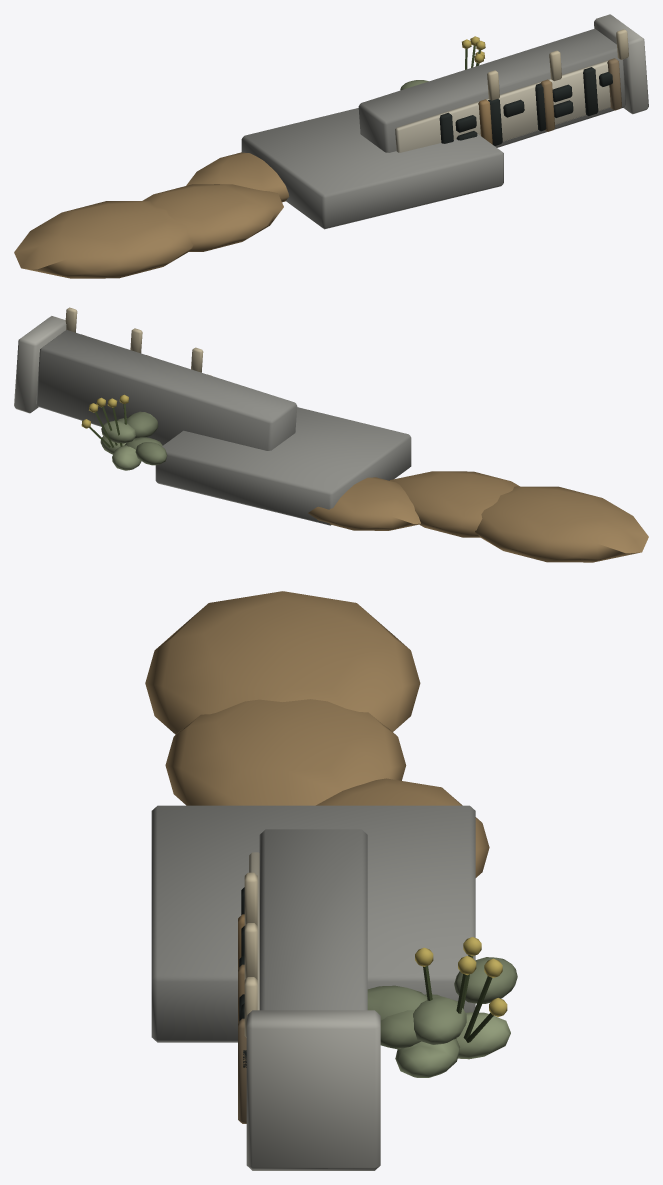
File: flood_staff_c.glb
3 views of the same model, one above another, from view 1: azimuth 30°, elevation 25°; view 2: azimuth 150°, elevation 25°; view 3: azimuth 270°, elevation 25° (orthographic). The views are drawn at different scales.
Parts seen in each view (by area): view 1: Surface; view 2: Surface; view 3: Surface.
Part boxes in pixels (left/top/right/bottom): Surface: left=14, top=14, right=648, bottom=278; Surface: left=14, top=307, right=648, bottom=562; Surface: left=145, top=591, right=517, bottom=1170.
Size of the model in its own units: 9.71 by 1.73 by 2.59.
